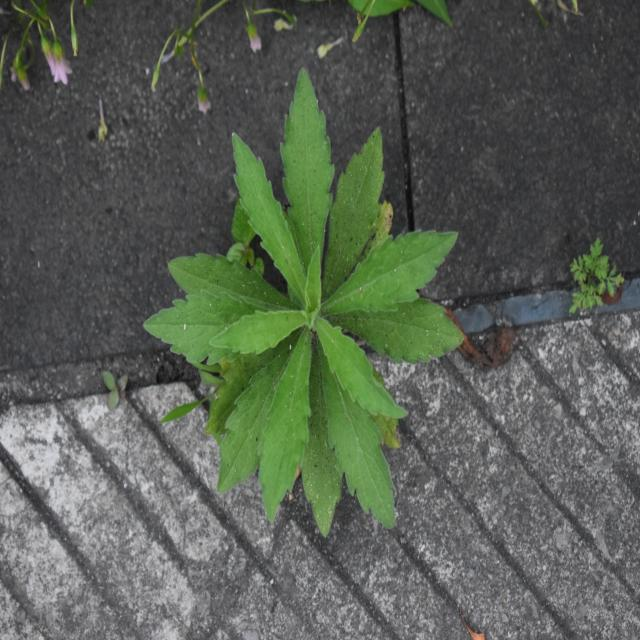horseweed: (182, 132, 456, 500)
